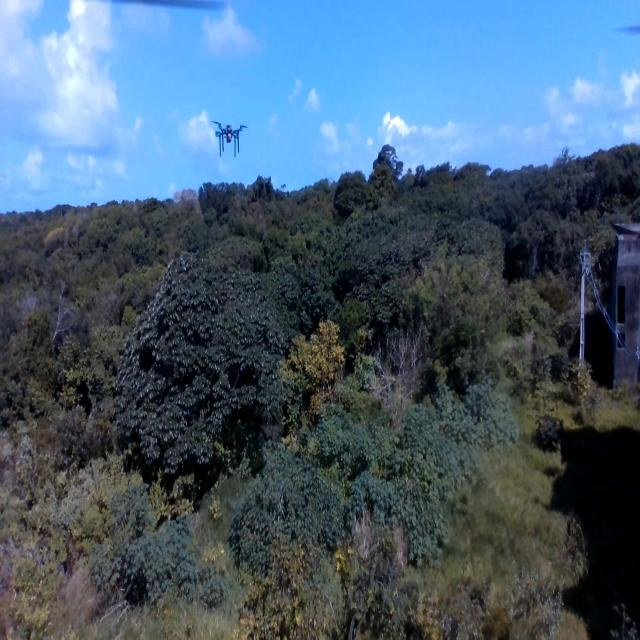-uav-: (208, 104, 250, 164)
